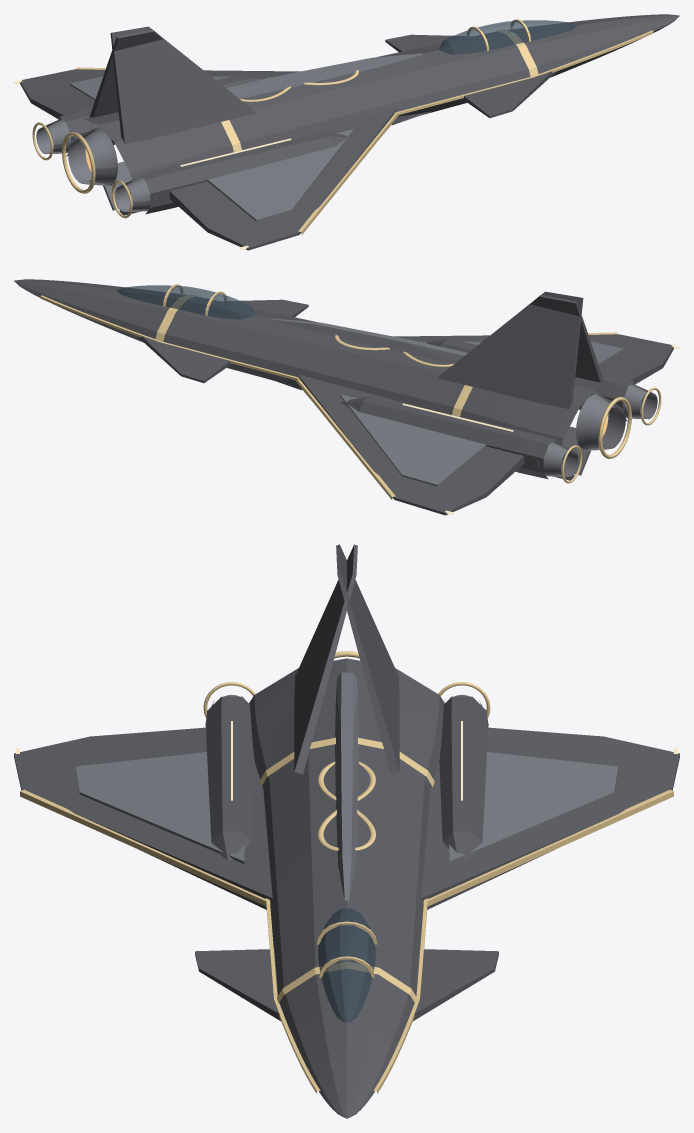
File: contenaissance-explorer.meshopt.glb
The picture shows the model from 3 angles, top to bottom: view 1: azimuth 30°, elevation 25°; view 2: azimuth 150°, elevation 25°; view 3: azimuth 270°, elevation 25°; orthographic projection. The views are drawn at different scales.
Parts seen in each view (by area): view 1: hull, titanium, gold, glass; view 2: hull, titanium, gold, glass; view 3: hull, titanium, gold, glass.
Part boxes in pixels (box(x1,y1,x2,y2)): hull: box(20, 14, 679, 250); titanium: box(36, 53, 431, 221); gold: box(32, 19, 653, 235); glass: box(439, 20, 576, 54); hull: box(14, 279, 673, 515); titanium: box(262, 318, 657, 486); gold: box(40, 284, 661, 500); glass: box(117, 285, 254, 319); hull: box(14, 544, 679, 1118); titanium: box(75, 672, 618, 900); gold: box(20, 651, 673, 1093); glass: box(318, 908, 375, 1022).
Bounding box in the file's own units: 4.92 × 1.4 × 3.24.
